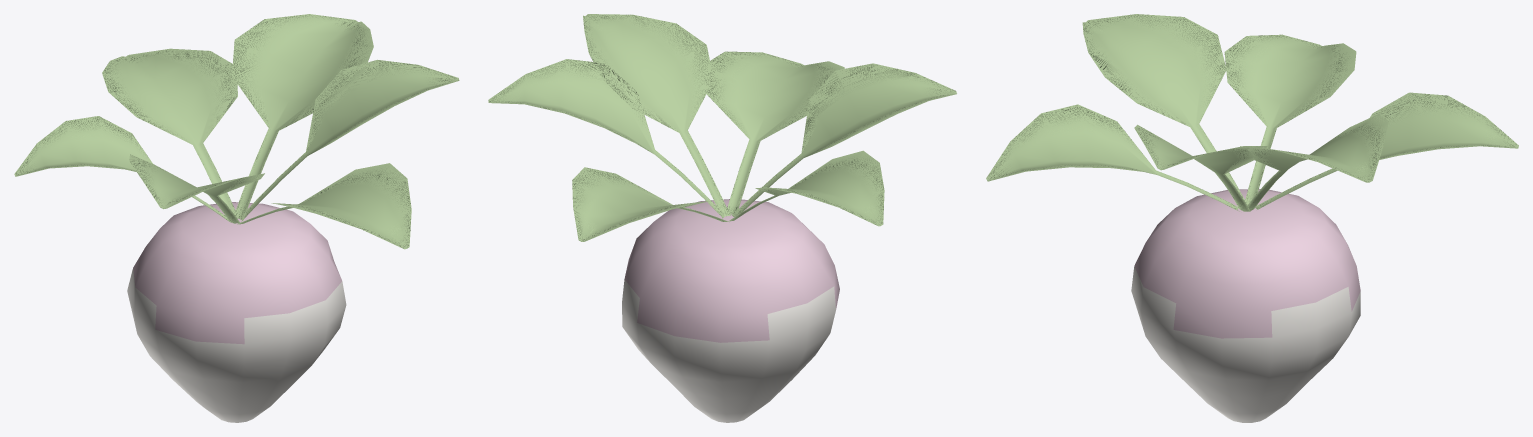
File: RainTurnip_Planted.fbx
3 renders of one model, left to right at view 1: azimuth 30°, elevation 25°; view 2: azimuth 150°, elevation 25°; view 3: azimuth 270°, elevation 25°, orthographic. The views are drawn at different scales.
Parts seen in each view (by area): view 1: RainTurnip_Planted; view 2: RainTurnip_Planted; view 3: RainTurnip_Planted.
Boxes of the visible parts, <box> form: RainTurnip_Planted: <box>14,14,459,422</box>; RainTurnip_Planted: <box>488,14,956,422</box>; RainTurnip_Planted: <box>986,14,1518,422</box>.
Bounding box in the file's own units: 0.5287 × 0.4515 × 0.6227.
